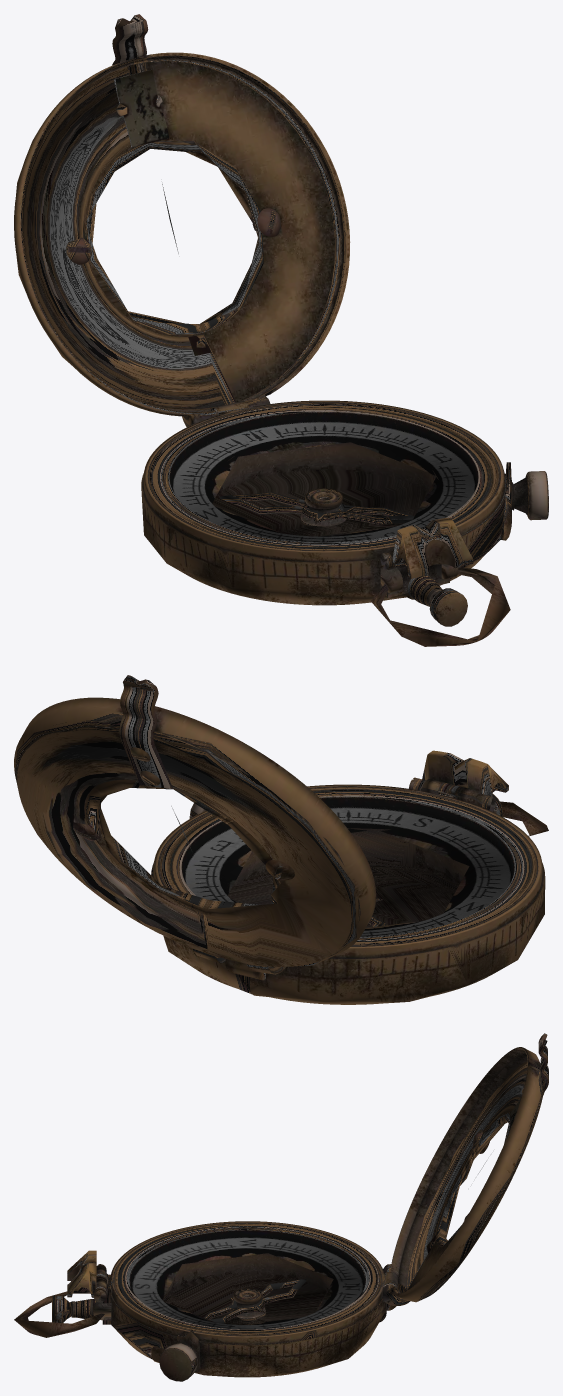
The model's file is seadogs_compass.glb.
3 renders of one model, top to bottom at view 1: azimuth 30°, elevation 25°; view 2: azimuth 150°, elevation 25°; view 3: azimuth 270°, elevation 25°, orthographic. The views are drawn at different scales.
Visible parts, largest first — view 1: seadogs_compass_lid, seadogs_compass, seadogs_compass_needle; view 2: seadogs_compass_lid, seadogs_compass; view 3: seadogs_compass, seadogs_compass_lid, seadogs_compass_needle.
Boxes of the visible parts, x1,y1,x2,y2 form: seadogs_compass_lid: (14,14,350,426); seadogs_compass: (141,400,548,646); seadogs_compass_needle: (219,492,414,524); seadogs_compass_lid: (14,675,376,974); seadogs_compass: (151,750,548,1004); seadogs_compass: (14,1221,397,1381); seadogs_compass_lid: (382,1033,548,1306); seadogs_compass_needle: (204,1279,306,1323).
Size of the model in its own units: 0.0813 by 0.0866 by 0.1441.
Materials: 1 (1 with a texture image).
